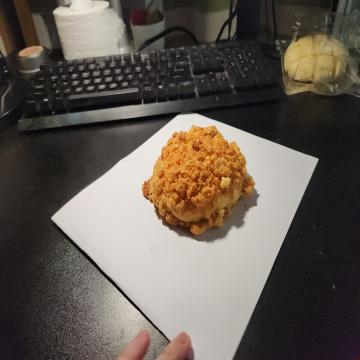soboru_bread: (140, 125, 254, 236)
